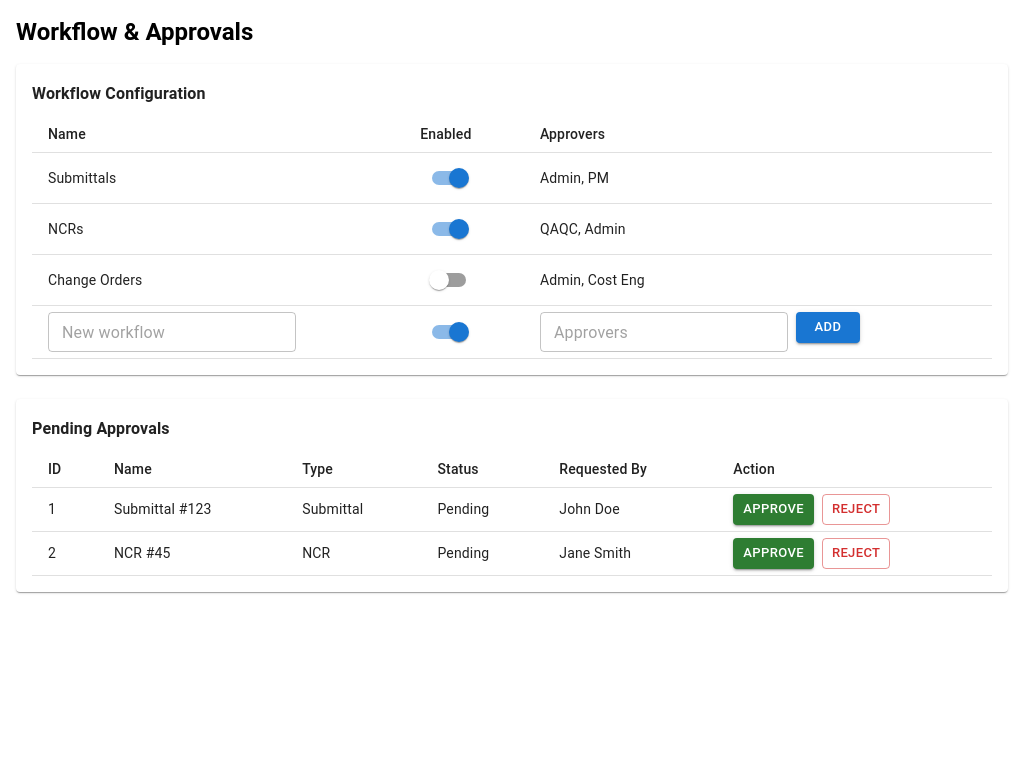
Scenario: WorkflowApprovals › can add a new workflow
Type "Test Workflow" into the field with placeholder "New workflow".
click(172, 332); type("Test Workflow")  # box [48,312,296,352]
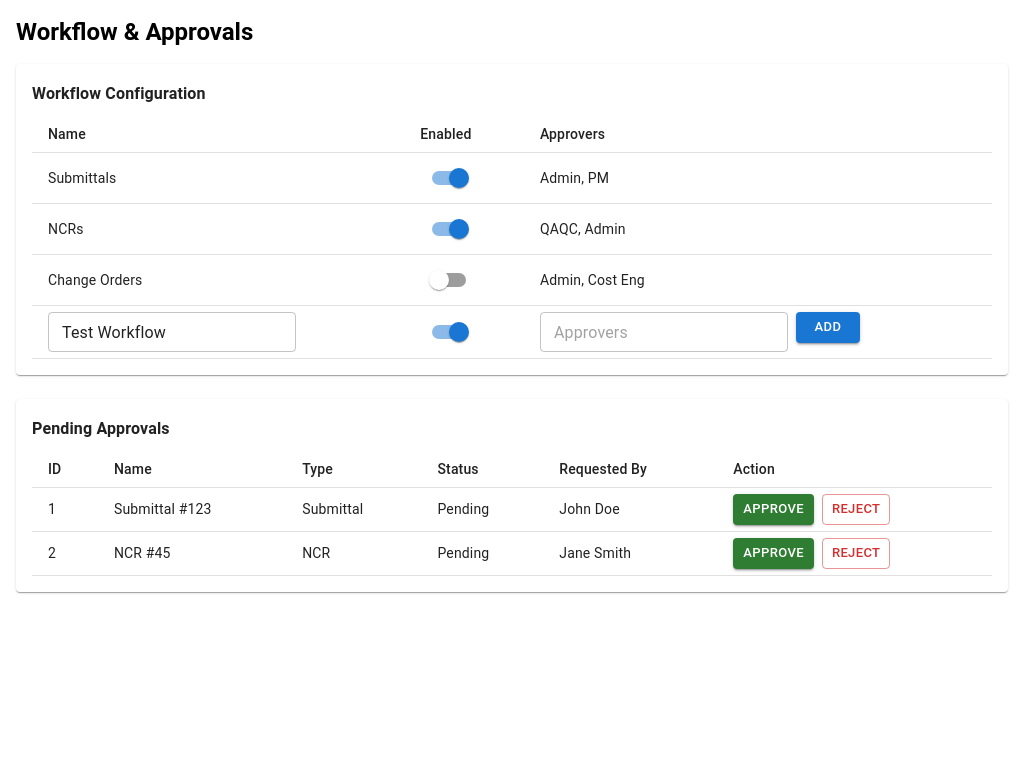
Type "Test Approver" into the field with placeholder "Approvers".
click(664, 332); type("Test Approver")  # box [540,312,788,352]
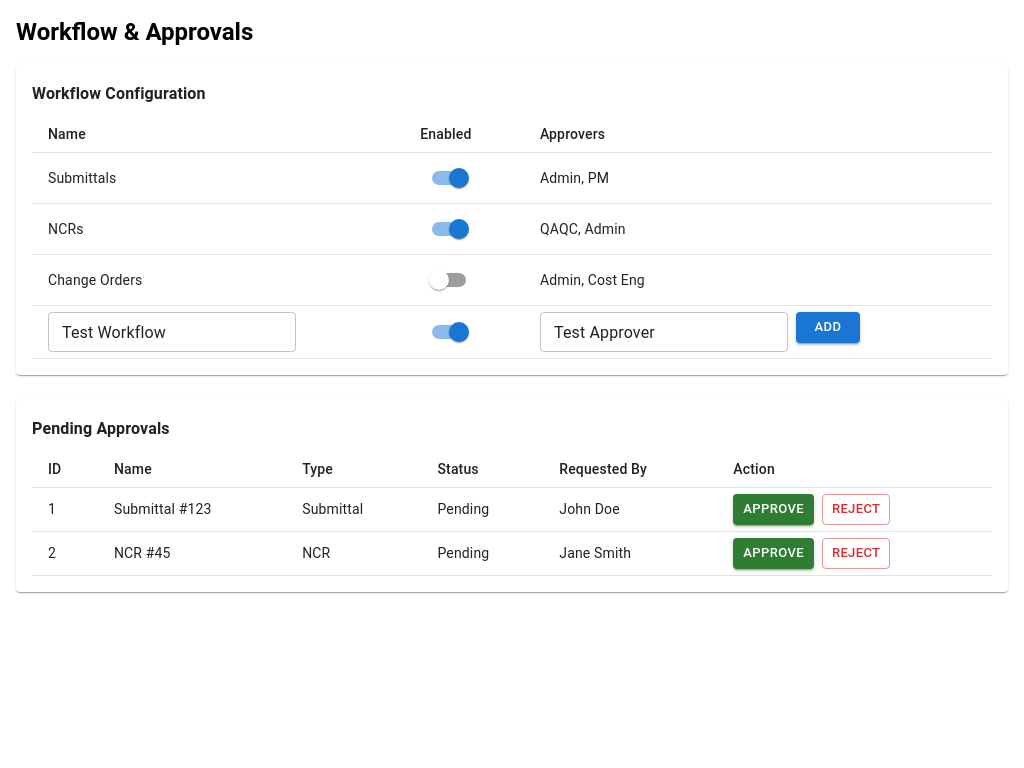
Click the button "Add".
click(828, 327)  # box [796,312,860,343]
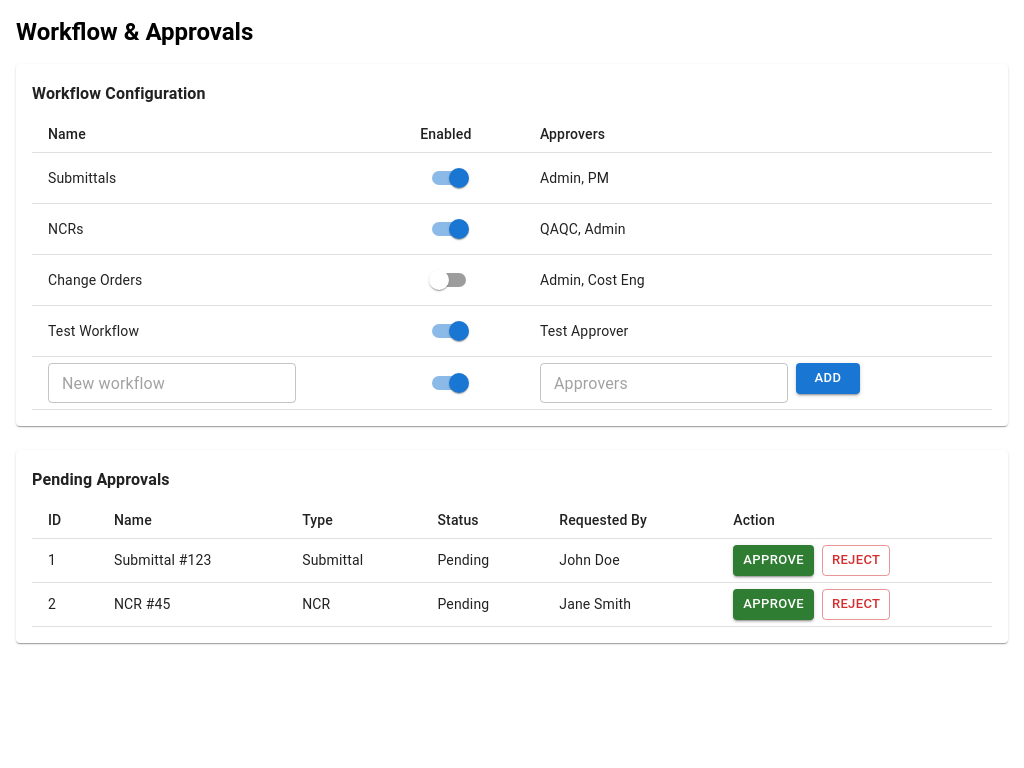
expect the text "Test Workflow" is shown: met, box [32,306,404,356]
expect the text "Test Approver" is shown: met, box [524,306,992,356]
